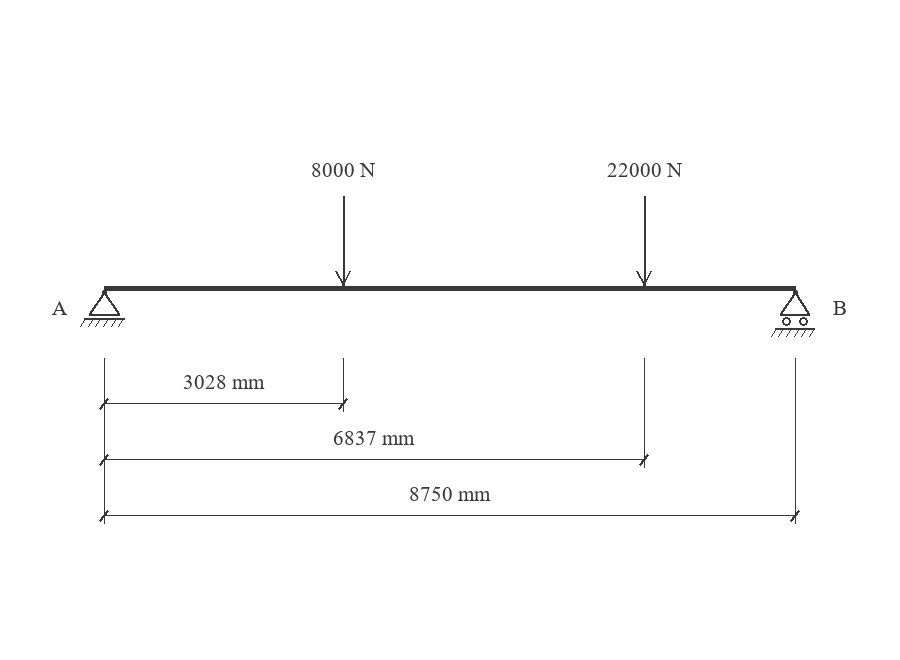pin_support: (80, 290, 125, 327)
point_load: (335, 196, 351, 286), (636, 196, 652, 286)
roller_support: (771, 290, 815, 337)
